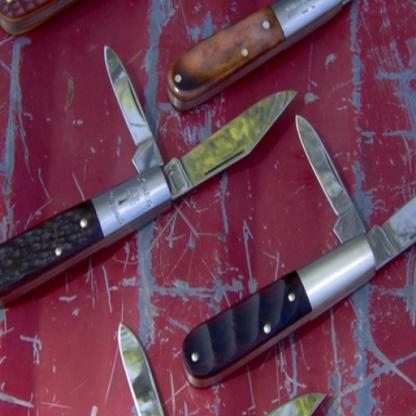knife: (0, 40, 303, 308), (180, 110, 416, 386), (0, 319, 325, 415), (169, 0, 416, 122)
